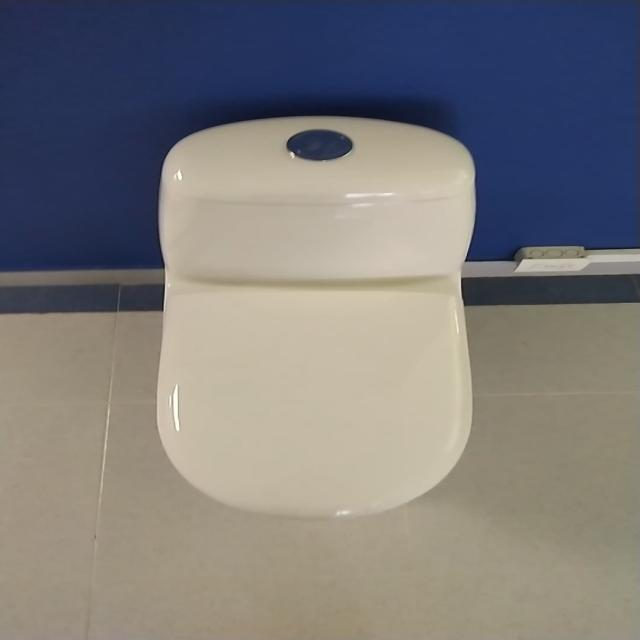toilet: (154, 114, 477, 519)
